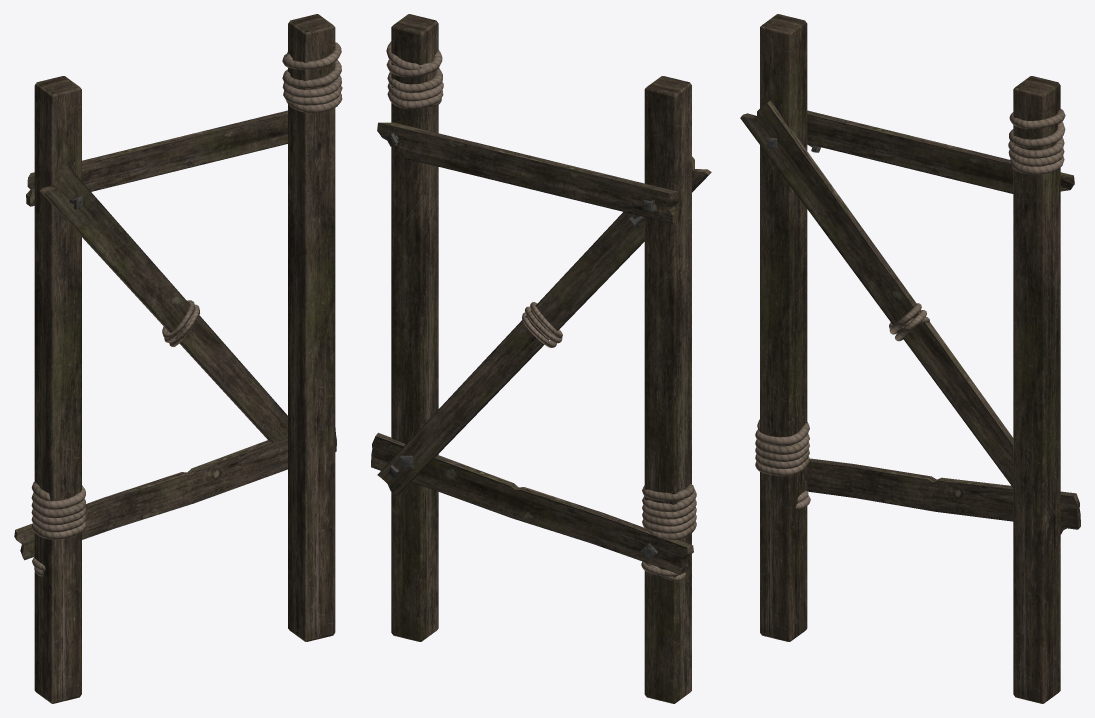
The model's file is dock_lower02.fbx.
3 views of the same model, side by side, from view 1: azimuth 30°, elevation 25°; view 2: azimuth 150°, elevation 25°; view 3: azimuth 330°, elevation 25° (orthographic).
Parts seen in each view (by area): view 1: dock_lower02; view 2: dock_lower02; view 3: dock_lower02.
Part boxes in pixels (left/top/right/bottom): dock_lower02: left=14, top=14, right=342, bottom=703; dock_lower02: left=371, top=14, right=711, bottom=703; dock_lower02: left=740, top=14, right=1080, bottom=703.
Size of the model in its own units: 380 by 691 by 78.39.
